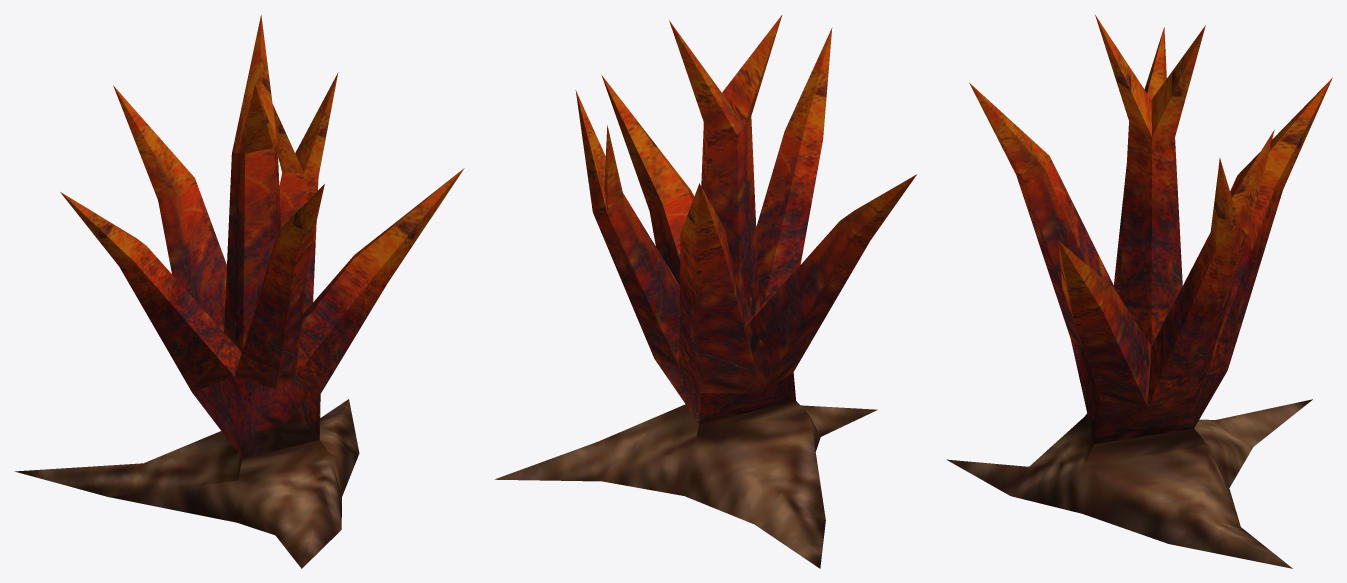
File: FireseedBushNewMesh.obj
3 views of the same model, side by side, from view 1: azimuth 30°, elevation 25°; view 2: azimuth 150°, elevation 25°; view 3: azimuth 270°, elevation 25° (orthographic). The views are drawn at different scales.
Parts seen in each view (by area): view 1: material_0; view 2: material_0; view 3: material_0.
Boxes of the visible parts, left/top/right/bottom form: material_0: left=14, top=15, right=464, bottom=568; material_0: left=494, top=15, right=916, bottom=568; material_0: left=946, top=15, right=1332, bottom=568.
Bounding box in the file's own units: 143 × 171 × 126.
Materials: 1 (1 with a texture image).
